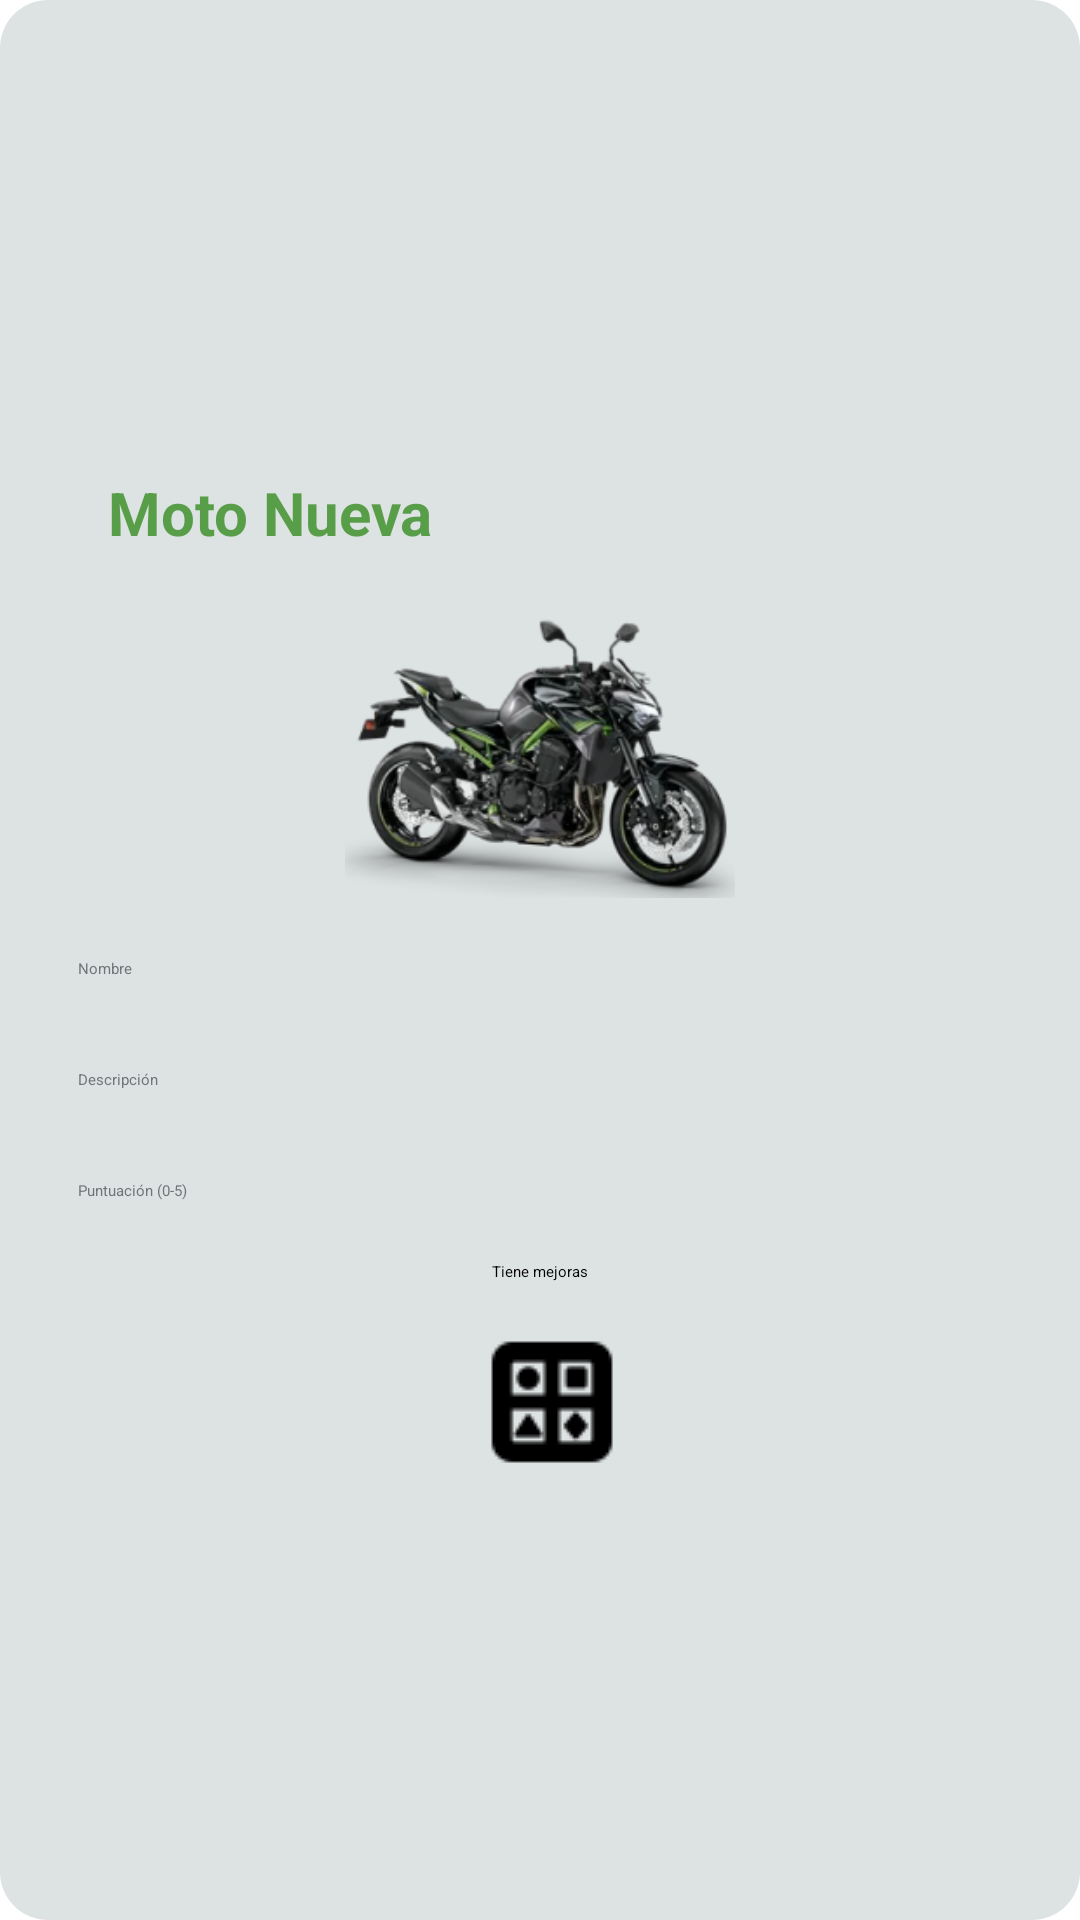

Icons on this 1080*1920 Android screen, each with the point to tap as [x,y]:
galeria: [552,1402]
